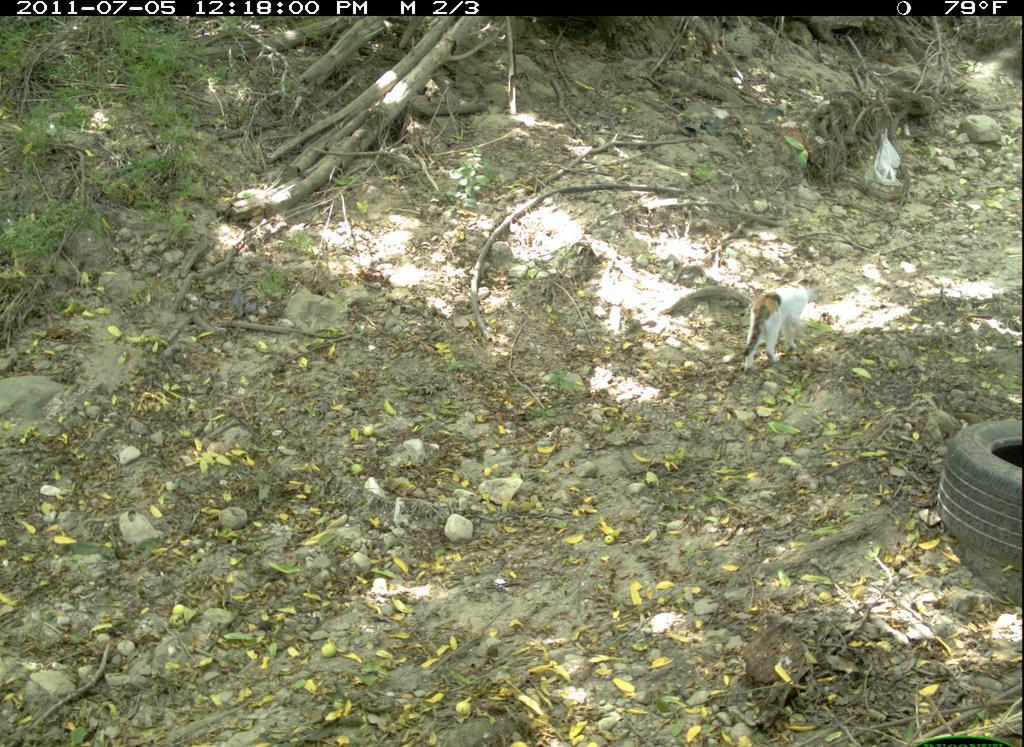cat: (720, 268, 818, 374)
